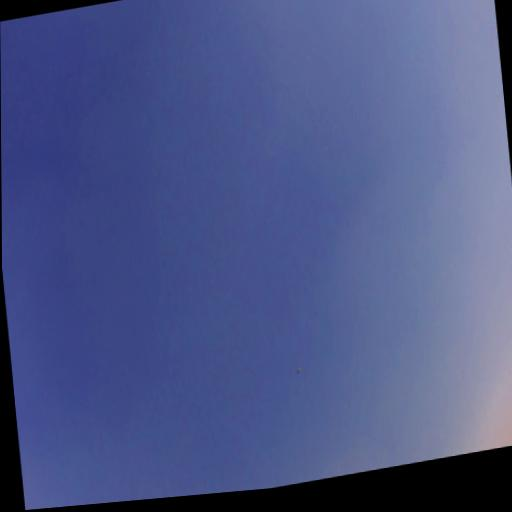drones: (294, 363, 303, 376)
